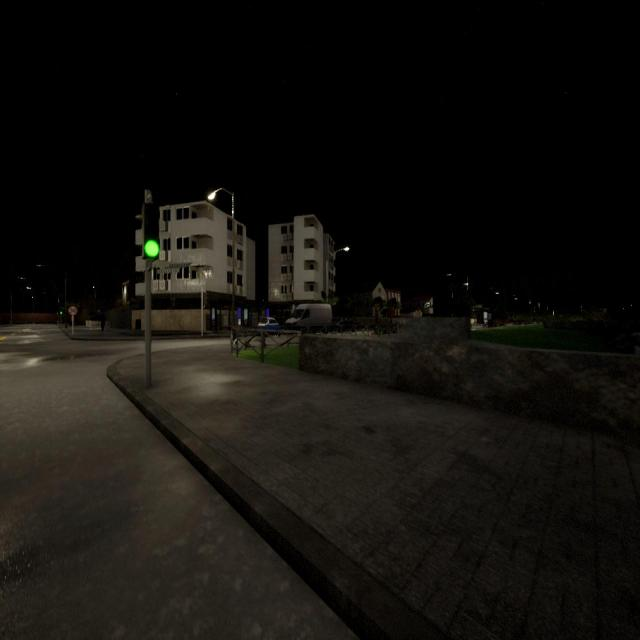Pedestrian: (100, 312, 106, 332)
Traffic_Signs: (68, 306, 78, 314)
Vehicle: (284, 304, 332, 332), (257, 317, 281, 338), (335, 318, 367, 332)
traffic_light: (142, 203, 159, 260), (202, 292, 208, 306), (60, 308, 62, 315), (57, 311, 58, 316)
